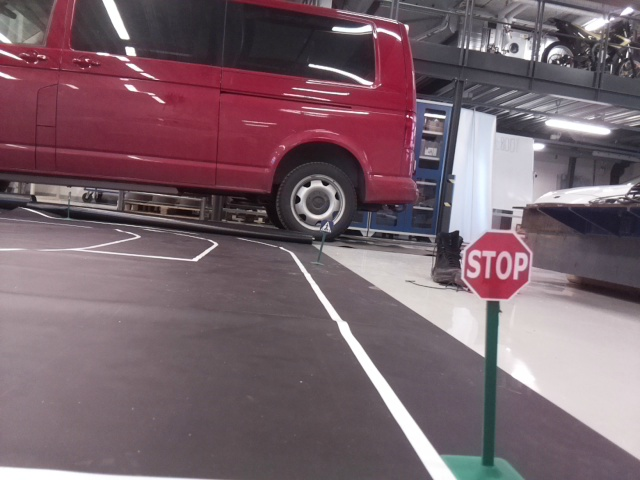Stop: (462, 228, 531, 301)
